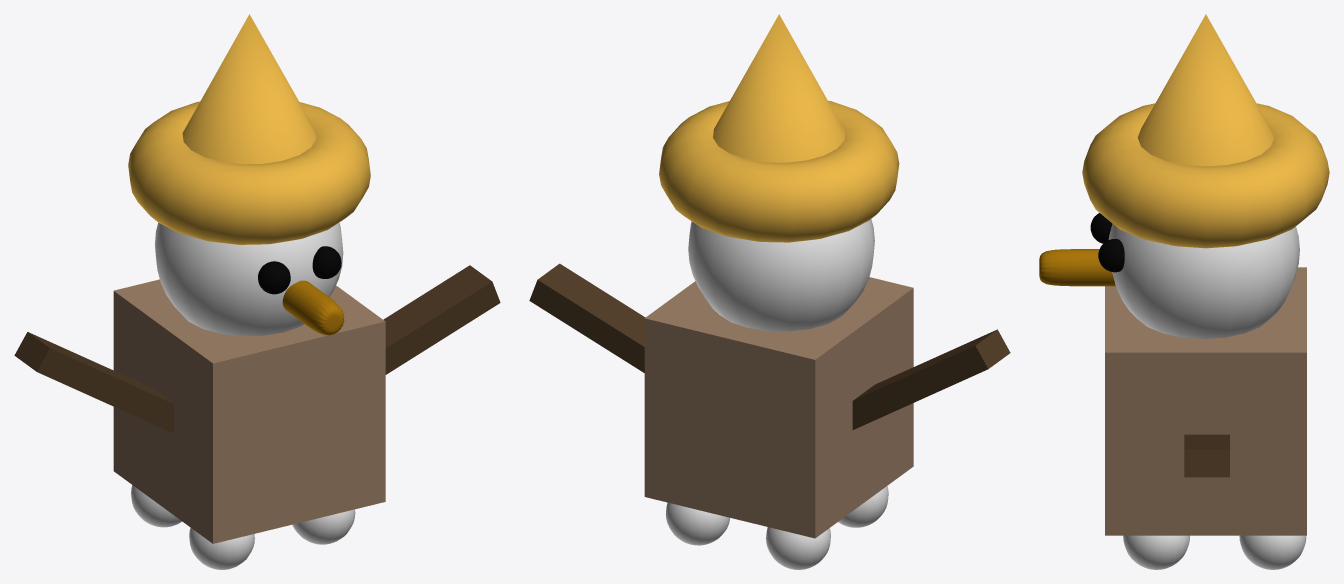
Rendered from Cardboard Snowman.fbx.
The picture shows the model from 3 angles, left to right: view 1: azimuth 30°, elevation 25°; view 2: azimuth 150°, elevation 25°; view 3: azimuth 270°, elevation 25°; orthographic projection. The views are drawn at different scales.
Visible parts, largest first — view 1: pCube1, pCone2, pSphere1, pCube2, pCube3, pCylinder1, pSphere5, pSphere2, pSphere4, pSphere6, pSphere7; view 2: pCube1, pCone2, pSphere1, pCube2, pCube3, pSphere4, pSphere3, pSphere5; view 3: pCube1, pCone2, pSphere1, pCylinder1, pCube2, pSphere3, pSphere2, pSphere7, pSphere6.
Boxes of the visible parts, left/top/right/bottom form: pCube1: left=113, top=279, right=385, bottom=543; pCone2: left=128, top=14, right=370, bottom=244; pSphere1: left=154, top=222, right=343, bottom=336; pCube2: left=383, top=265, right=500, bottom=374; pCube3: left=14, top=332, right=173, bottom=433; pCylinder1: left=282, top=280, right=344, bottom=335; pSphere5: left=189, top=527, right=254, bottom=569; pSphere2: left=292, top=509, right=355, bottom=544; pSphere4: left=131, top=485, right=181, bottom=527; pSphere6: left=258, top=261, right=290, bottom=294; pSphere7: left=312, top=246, right=341, bottom=278; pCube1: left=644, top=277, right=913, bottom=538; pCone2: left=659, top=14, right=899, bottom=242; pSphere1: left=688, top=219, right=874, bottom=331; pCube2: left=529, top=263, right=645, bottom=372; pCube3: left=852, top=329, right=1010, bottom=429; pSphere4: left=766, top=527, right=830, bottom=569; pSphere3: left=665, top=502, right=729, bottom=545; pSphere5: left=838, top=486, right=888, bottom=527; pCube1: left=1105, top=267, right=1306, bottom=535; pCone2: left=1082, top=14, right=1329, bottom=248; pSphere1: left=1108, top=223, right=1299, bottom=338; pCylinder1: left=1039, top=249, right=1115, bottom=286; pCube2: left=1184, top=434, right=1229, bottom=477; pSphere3: left=1239, top=535, right=1306, bottom=569; pSphere2: left=1123, top=535, right=1189, bottom=569; pSphere7: left=1098, top=239, right=1124, bottom=272; pSphere6: left=1090, top=213, right=1112, bottom=243.
Size of the model in its own units: 10.24 by 11.01 by 5.48.
